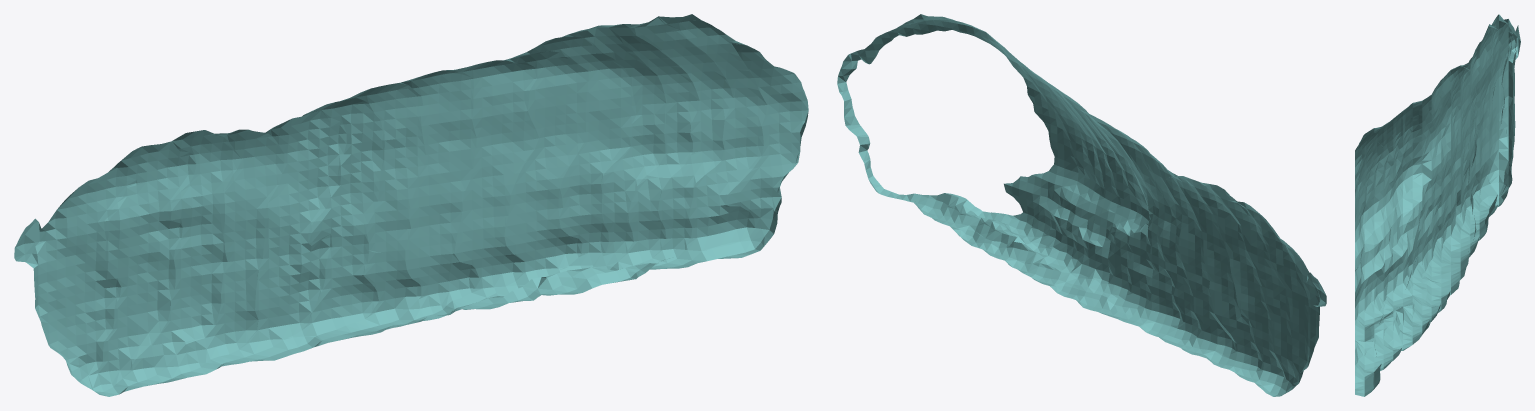
The model's file is 052__RH_Par_L_PtD__full_20fps__surface.glb.
The picture shows the model from 3 angles, left to right: view 1: azimuth 30°, elevation 25°; view 2: azimuth 150°, elevation 25°; view 3: azimuth 270°, elevation 25°; orthographic projection. The views are drawn at different scales.
Visible parts, largest first — view 1: world; view 2: world; view 3: world.
Part boxes in pixels (x1,y1,x2,y2): world: (14, 14, 808, 396); world: (837, 14, 1326, 396); world: (1355, 14, 1520, 396).
Size of the model in its own units: 295 by 123 by 69.18.
